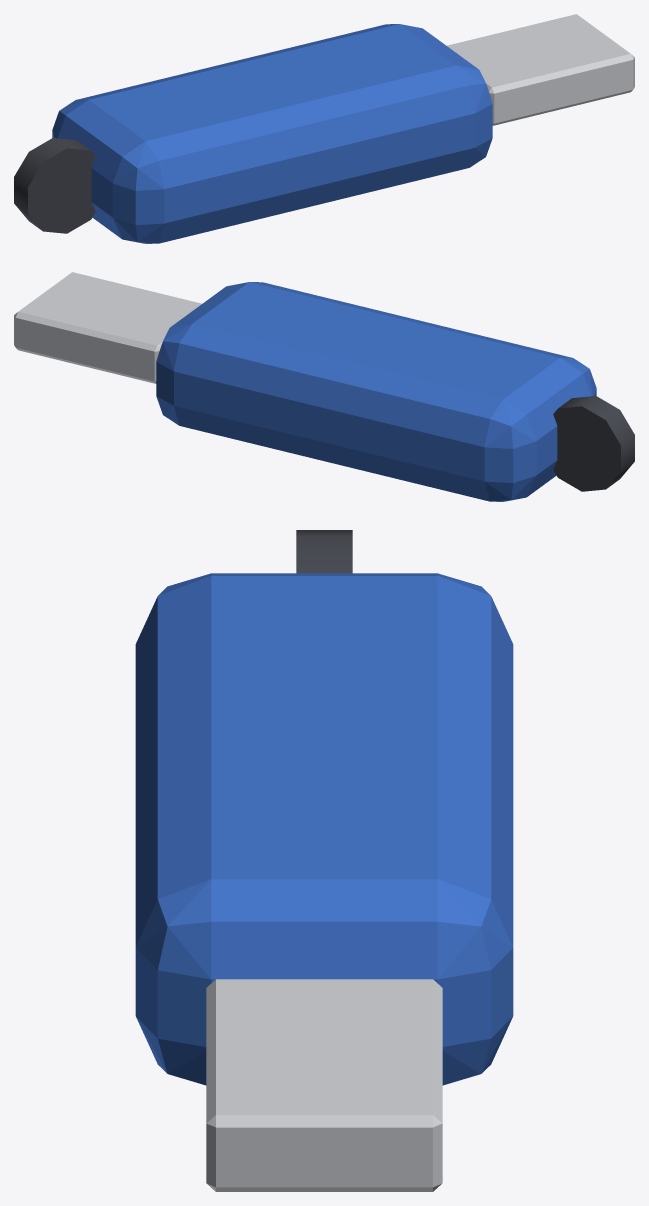
The model's file is pendrive.obj.
The picture shows the model from 3 angles, top to bottom: view 1: azimuth 30°, elevation 25°; view 2: azimuth 150°, elevation 25°; view 3: azimuth 270°, elevation 25°; orthographic projection. The views are drawn at different scales.
Parts seen in each view (by area): view 1: pendrive; view 2: pendrive; view 3: pendrive.
Part boxes in pixels (left/top/right/bottom): pendrive: left=14, top=14, right=634, bottom=243; pendrive: left=14, top=272, right=634, bottom=501; pendrive: left=135, top=530, right=513, bottom=1191.
Size of the model in its own units: 0.0718 by 0.012 by 0.02.
